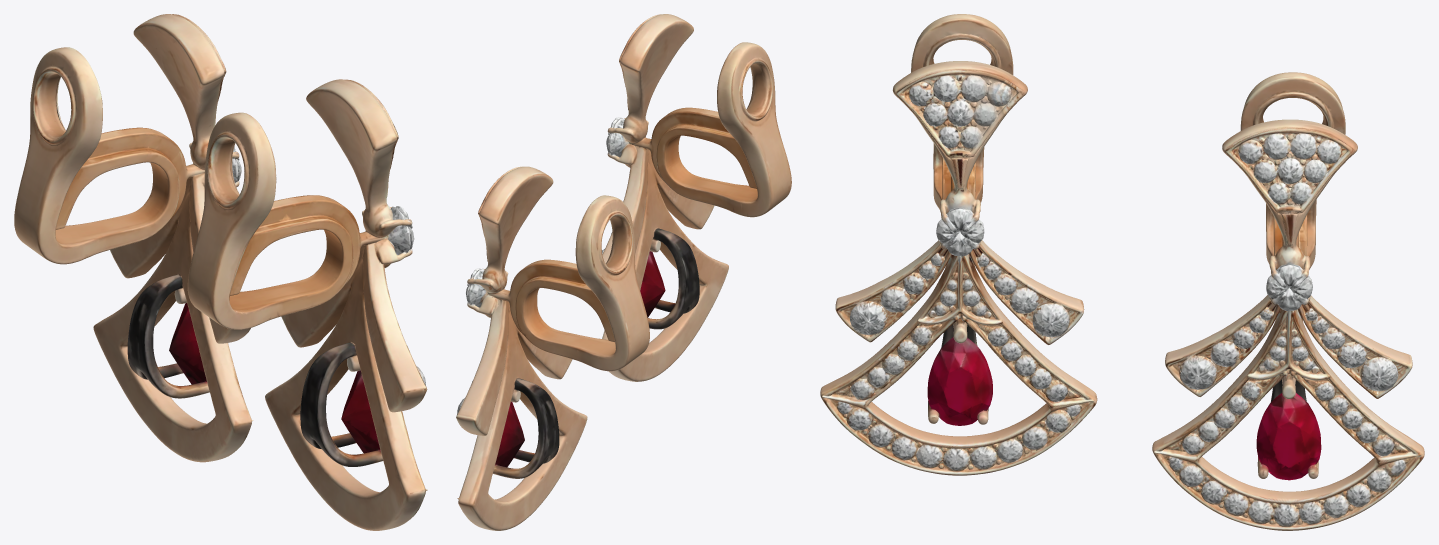
File: emerald-dew.glb
The picture shows the model from 3 angles, left to right: view 1: azimuth 30°, elevation 25°; view 2: azimuth 150°, elevation 25°; view 3: azimuth 270°, elevation 25°; orthographic projection. The views are drawn at different scales.
Visible parts, largest first — view 1: tripo_node_822dbf7c-19ad-4e96-a74f-83e778ebcb02; view 2: tripo_node_822dbf7c-19ad-4e96-a74f-83e778ebcb02; view 3: tripo_node_822dbf7c-19ad-4e96-a74f-83e778ebcb02.
Boxes of the visible parts, x1,y1,x2,y2 form: tripo_node_822dbf7c-19ad-4e96-a74f-83e778ebcb02: (14,14,427,530); tripo_node_822dbf7c-19ad-4e96-a74f-83e778ebcb02: (456,14,791,530); tripo_node_822dbf7c-19ad-4e96-a74f-83e778ebcb02: (820,14,1424,530).
Bounding box in the file's own units: 0.3749 × 0.8321 × 0.9802.
Materials: 1 (1 with a texture image).
